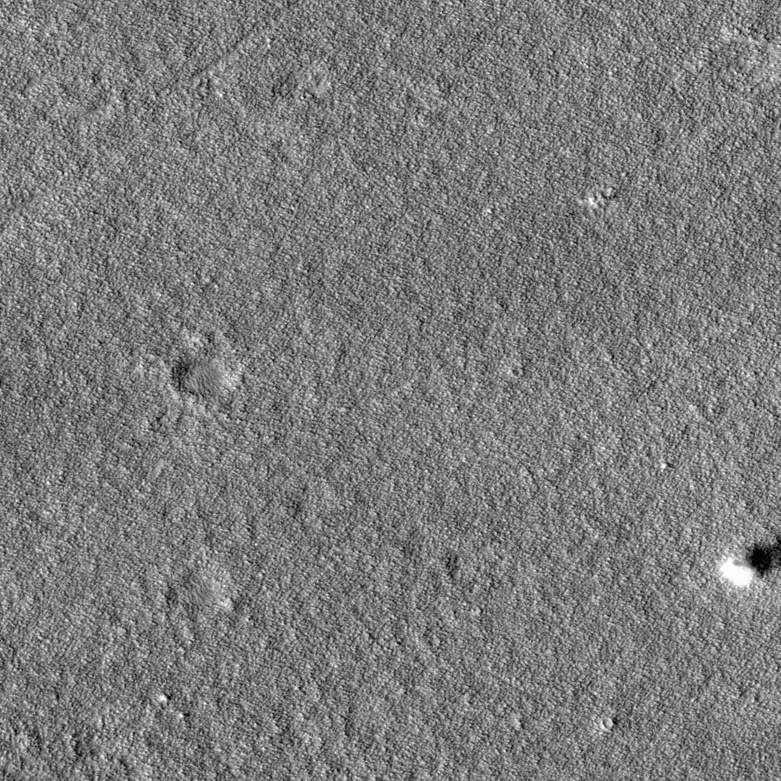dust_devil: (716, 538, 781, 590)
